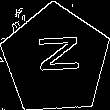N_W: (30, 38, 82, 81)
